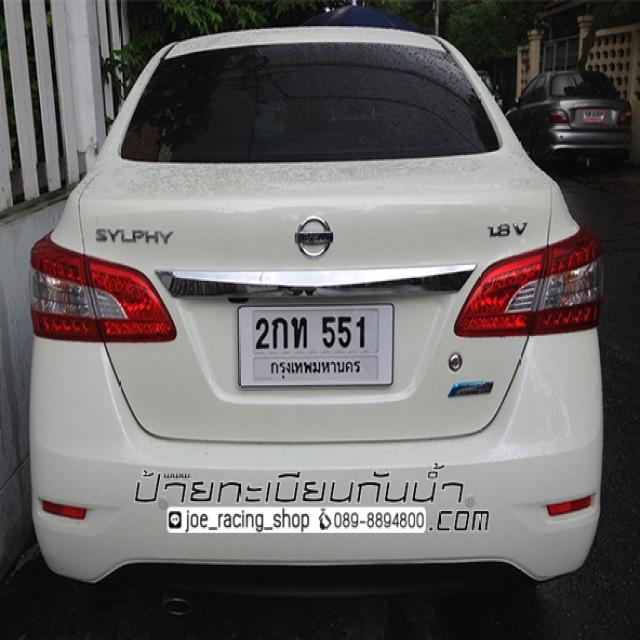license_plate: (238, 302, 394, 390)
